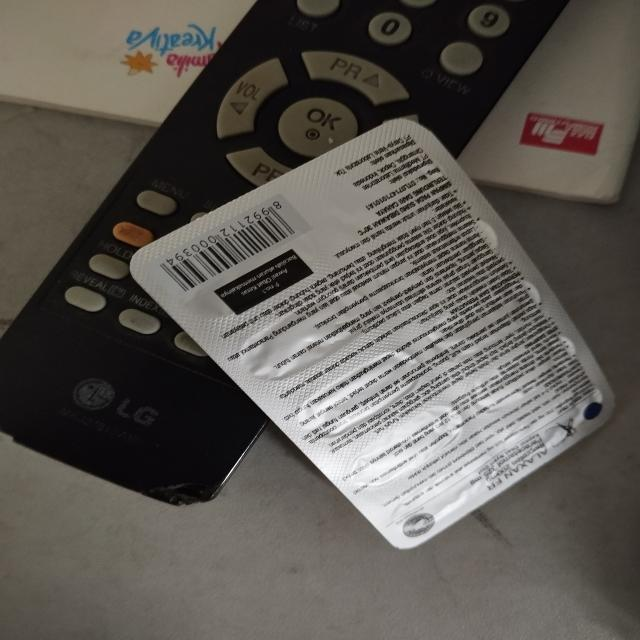B3: (125, 120, 619, 550)
